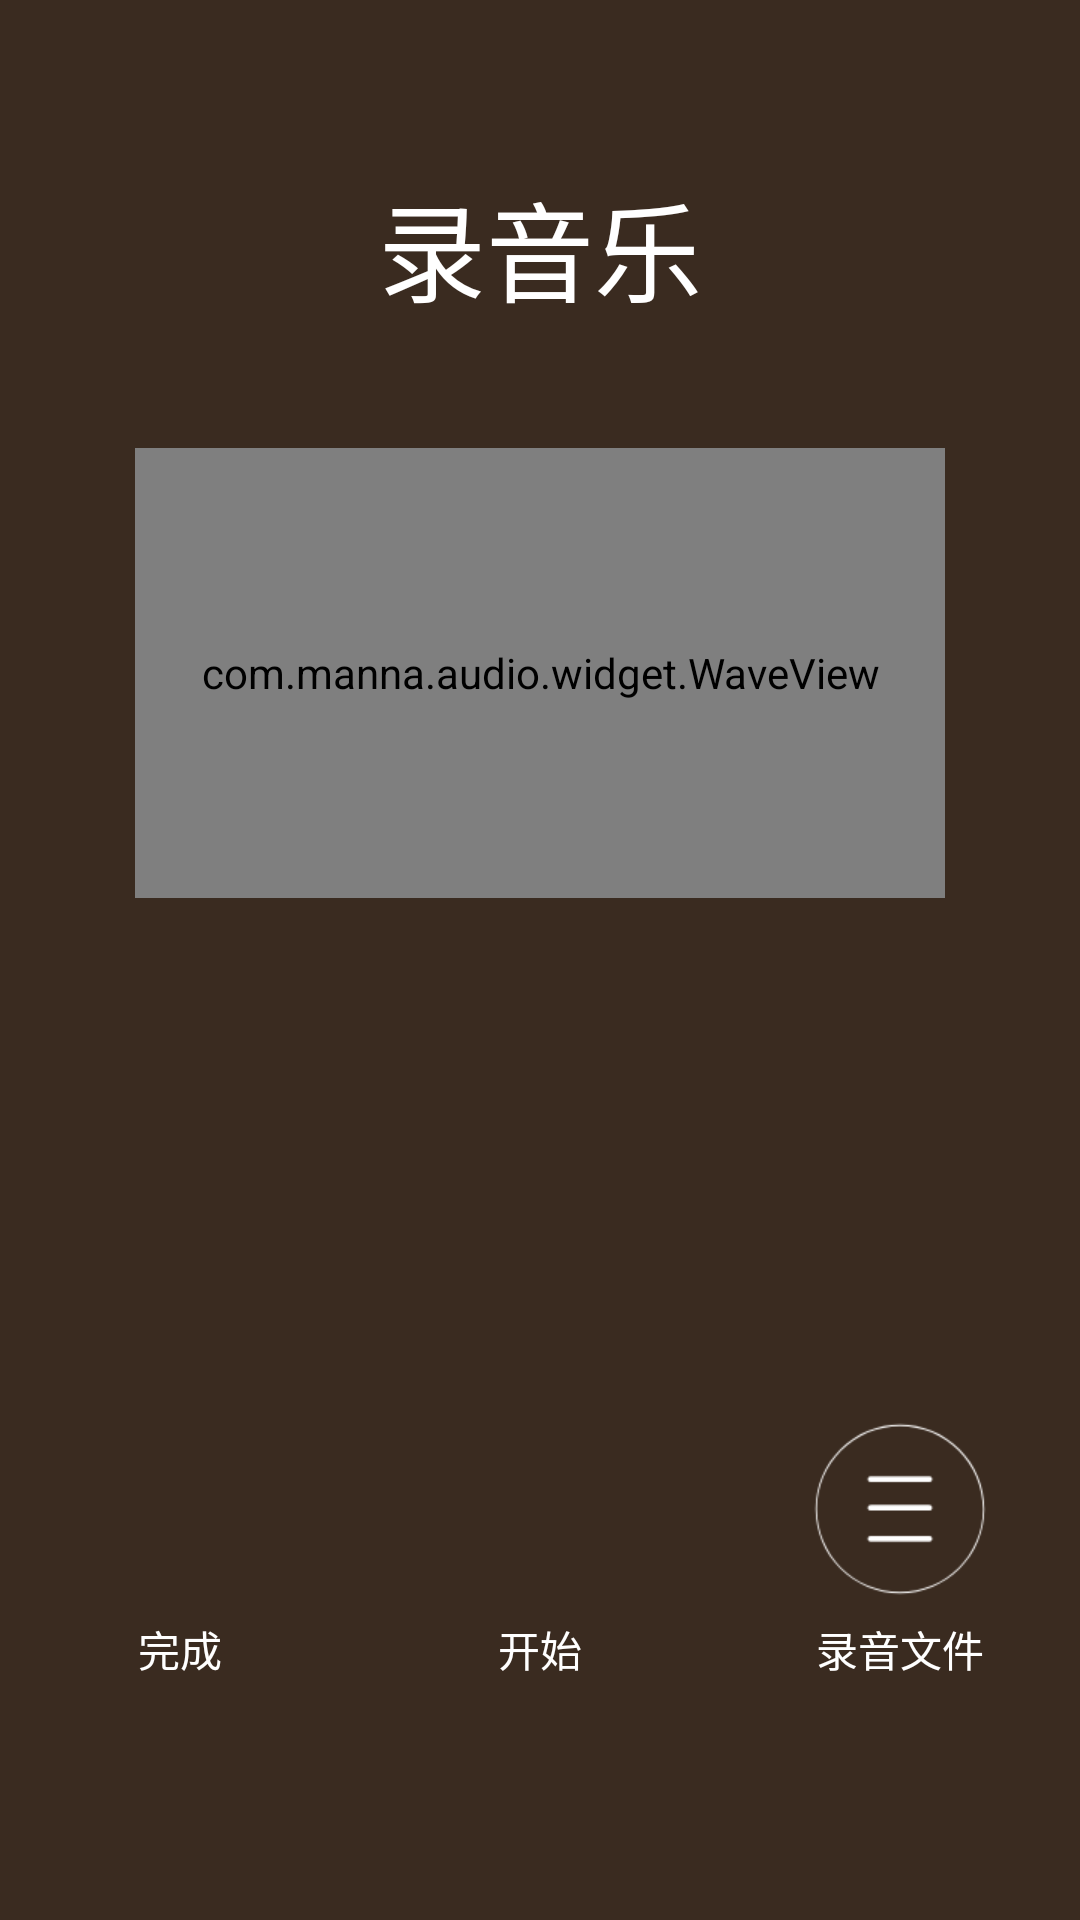

Where icons sit on this 1080*1920 app screen, as (x1, y1, x2, y2):
detail record: (815, 1423, 985, 1595)
